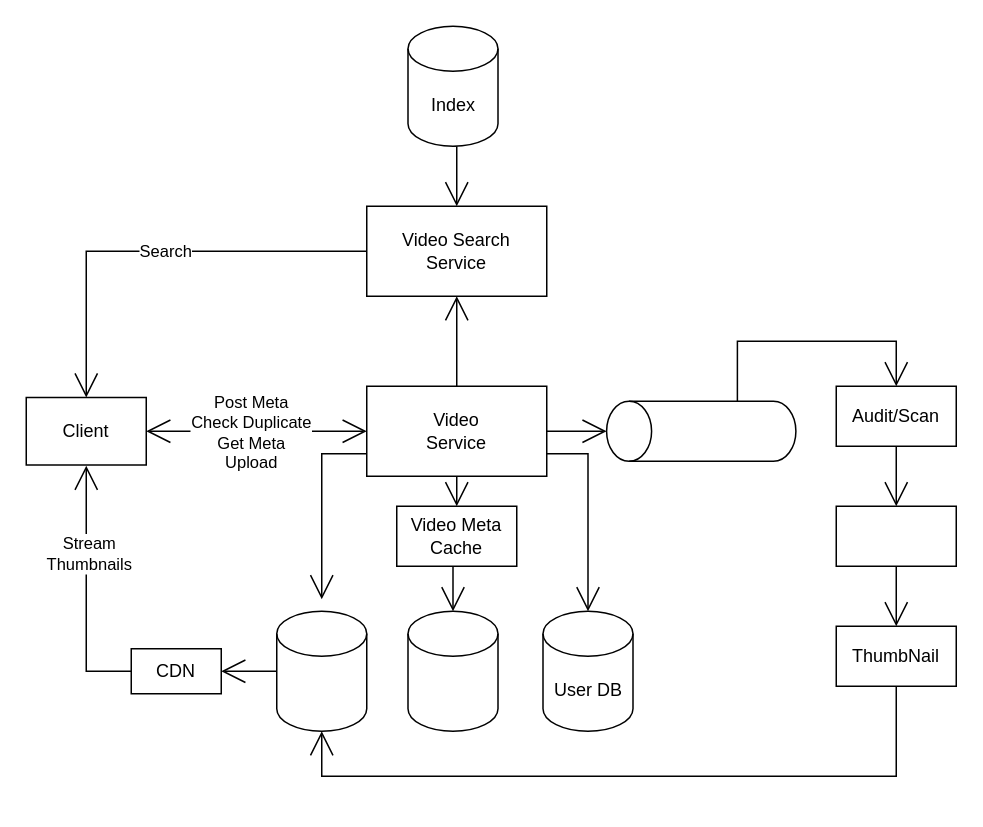
Image size: 983x827. Some labels were removed from this diagram. Here are the shapes that lost their labels. From the top down, the centre of each, then its label:
At pixel 700 430: "Queue".
At pixel 895 535: "Codec".
At pixel 321 670: "Video Storage".
At pixel 452 670: "Video Meta DB".
